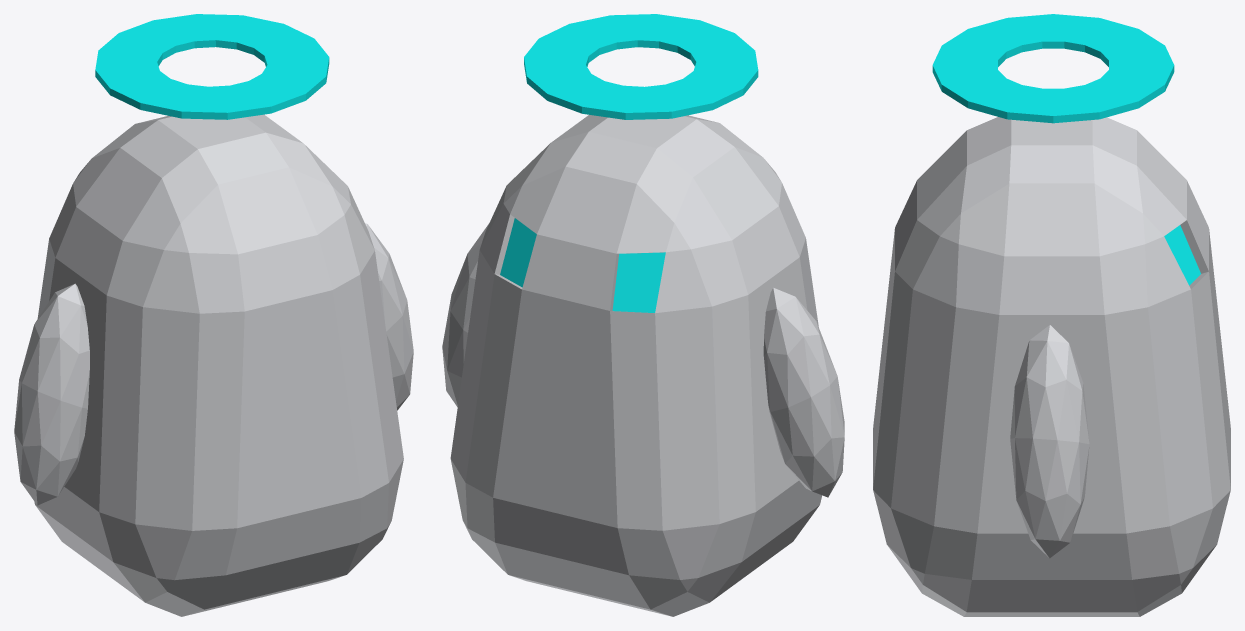
3 renders of one model, left to right at view 1: azimuth 30°, elevation 25°; view 2: azimuth 150°, elevation 25°; view 3: azimuth 270°, elevation 25°, orthographic. The views are drawn at different scales.
Parts seen in each view (by area): view 1: Cube, 圓柱體; view 2: Cube, 圓柱體, Cube.001; view 3: Cube, 圓柱體, Cube.001.
Part boxes in pixels (x1,y1,x2,y2): Cube: [14, 114, 413, 616]; 圓柱體: [95, 14, 329, 119]; Cube: [442, 115, 844, 616]; 圓柱體: [524, 14, 758, 119]; Cube.001: [500, 218, 665, 312]; Cube: [873, 117, 1230, 616]; 圓柱體: [932, 14, 1174, 123]; Cube.001: [1164, 225, 1200, 285].
Size of the model in its own units: 186 by 228 by 143.
